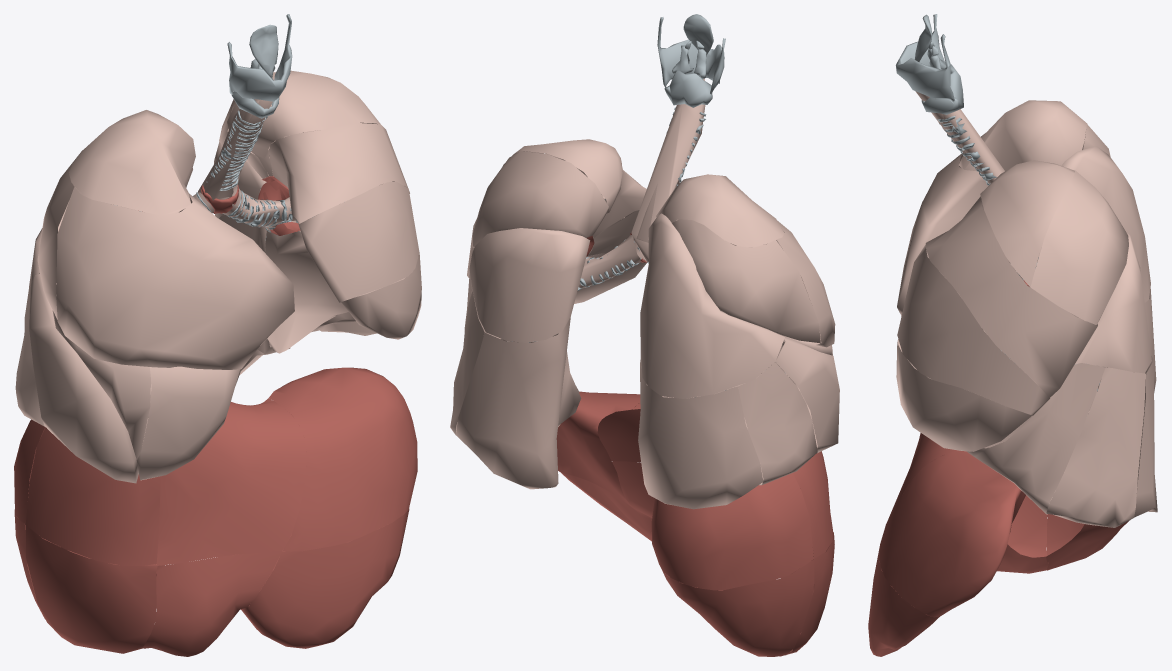
The model's file is adult_female.respiratory.LOD3.glb.
The picture shows the model from 3 angles, left to right: view 1: azimuth 30°, elevation 25°; view 2: azimuth 150°, elevation 25°; view 3: azimuth 270°, elevation 25°; orthographic projection. The views are drawn at different scales.
Visible parts, largest first — view 1: ADULT.FEMALE.RESPIRATORY.ANTERIOR_BRONCHOPULMONARY_SEGM.R, ADULT.FEMALE.RESPIRATORY.SUPEROMEDIAL_SEGMENT.L, ADULT.FEMALE.RESPIRATORY.SUPEROMEDIAL_SEGMENT1.L, ADULT.FEMALE.RESPIRATORY.ANTEROSUPERIOR_SEGMENT.R, ADULT.FEMALE.RESPIRATORY.ANTEROLATERAL_SEGMENT.L, ADULT.FEMALE.RESPIRATORY.ANTEROINFERIOR_SEGMENT.R, ADULT.FEMALE.RESPIRATORY.ANTERIOR_BASAL_BRONCHOPULMONARY_SEG, ADULT.FEMALE.RESPIRATORY.LINGULA_SUPERIOR_BRONCHOPULMONARY_S, ADULT.FEMALE.RESPIRATORY.APICAL_BRONCHOPULMONARY_SEGMENT.R, ADULT.FEMALE.RESPIRATORY.ANTERIOR_BRONCHOPULMONARY_SEGMENT.L, ADULT.FEMALE.RESPIRATORY.INFEROMEDIAL_SEGMENT.L, ADULT.FEMALE.RESPIRATORY.MEDIAL_BRONCHOPULMONARY_SEGMENT.R (+17 smaller); view 2: ADULT.FEMALE.RESPIRATORY.POSTERIOR_BASAL_BRONCHOPULMONARY_SE (×2), ADULT.FEMALE.RESPIRATORY.POSTERIOR_BRONCHOPULMONARY_SEGMENT. (×2), ADULT.FEMALE.RESPIRATORY.SUPERIOR_BRONCHOPULMONARY_SEGMENT.R, ADULT.FEMALE.RESPIRATORY.POSTEROSUPERIOR_SEGMENT.R, ADULT.FEMALE.RESPIRATORY.SUPERIOR_BRONCHOPULMONARY_SEGMENT.L, ADULT.FEMALE.RESPIRATORY.LATERAL_BASAL_BRONCHOPULMONARY_SEGM (×2), ADULT.FEMALE.RESPIRATORY.POSTEROINFERIOR_SEGMENT.R, ADULT.FEMALE.RESPIRATORY.SUPEROMEDIAL_SEGMENT.L, ADULT.FEMALE.RESPIRATORY.APICAL_BRONCHOPULMONARY_SEGMENT.R, ADULT.FEMALE.RESPIRATORY.ANTERIOR_BASAL_BRONCHOPULMONARY_SEG, ADULT.FEMALE.RESPIRATORY.TRACHEA, ADULT.FEMALE.RESPIRATORY.ANTEROLATERAL_SEGMENT.L (+11 smaller); view 3: ADULT.FEMALE.RESPIRATORY.SUPEROMEDIAL_SEGMENT.L, ADULT.FEMALE.RESPIRATORY.ANTERIOR_BRONCHOPULMONARY_SEGMENT.L, ADULT.FEMALE.RESPIRATORY.LINGULA_SUPERIOR_BRONCHOPULMONARY_S, ADULT.FEMALE.RESPIRATORY.LATERAL_BASAL_BRONCHOPULMONARY_SEGM, ADULT.FEMALE.RESPIRATORY.POSTERIOR_BRONCHOPULMONARY_SEGMENT., ADULT.FEMALE.RESPIRATORY.ANTERIOR_BASAL_BRONCHOPULMONARY_SEG, ADULT.FEMALE.RESPIRATORY.LINGULA_INFERIOR_BRONCHOPULMONARY_S, ADULT.FEMALE.RESPIRATORY.APICAL_BRONCHOPULMONARY_SEGMENT.L, ADULT.FEMALE.RESPIRATORY.APICAL_BRONCHOPULMONARY_SEGMENT.R, ADULT.FEMALE.RESPIRATORY.SUPERIOR_BRONCHOPULMONARY_SEGMENT.L, ADULT.FEMALE.RESPIRATORY.ANTERIOR_BRONCHOPULMONARY_SEGM.R, ADULT.FEMALE.RESPIRATORY.SUPERIOR_BRONCHOPULMONARY_SEGMENT.R (+10 smaller).
Boxes of the visible parts, x1,y1,x2,y2 form: ADULT.FEMALE.RESPIRATORY.ANTERIOR_BRONCHOPULMONARY_SEGM.R: (56, 187, 294, 369); ADULT.FEMALE.RESPIRATORY.SUPEROMEDIAL_SEGMENT.L: (268, 367, 417, 551); ADULT.FEMALE.RESPIRATORY.SUPEROMEDIAL_SEGMENT1.L: (156, 398, 306, 565); ADULT.FEMALE.RESPIRATORY.ANTEROSUPERIOR_SEGMENT.R: (25, 427, 160, 565); ADULT.FEMALE.RESPIRATORY.ANTEROLATERAL_SEGMENT.L: (235, 508, 409, 648); ADULT.FEMALE.RESPIRATORY.ANTEROINFERIOR_SEGMENT.R: (26, 525, 157, 653); ADULT.FEMALE.RESPIRATORY.ANTERIOR_BASAL_BRONCHOPULMONARY_SEG: (29, 274, 151, 483); ADULT.FEMALE.RESPIRATORY.LINGULA_SUPERIOR_BRONCHOPULMONARY_S: (297, 181, 419, 302); ADULT.FEMALE.RESPIRATORY.APICAL_BRONCHOPULMONARY_SEGMENT.R: (69, 110, 195, 215); ADULT.FEMALE.RESPIRATORY.ANTERIOR_BRONCHOPULMONARY_SEGMENT.L: (268, 123, 409, 222); ADULT.FEMALE.RESPIRATORY.INFEROMEDIAL_SEGMENT.L: (143, 551, 281, 656); ADULT.FEMALE.RESPIRATORY.MEDIAL_BRONCHOPULMONARY_SEGMENT.R: (136, 366, 240, 480); ADULT.FEMALE.RESPIRATORY.POSTERIOR_BASAL_BRONCHOPULMONARY_SE (×2): (456, 317, 763, 509); ADULT.FEMALE.RESPIRATORY.POSTERIOR_BRONCHOPULMONARY_SEGMENT. (×2): (472, 151, 820, 343); ADULT.FEMALE.RESPIRATORY.SUPERIOR_BRONCHOPULMONARY_SEGMENT.R: (640, 213, 784, 398); ADULT.FEMALE.RESPIRATORY.POSTEROSUPERIOR_SEGMENT.R: (651, 473, 813, 590); ADULT.FEMALE.RESPIRATORY.SUPERIOR_BRONCHOPULMONARY_SEGMENT.L: (469, 228, 590, 342); ADULT.FEMALE.RESPIRATORY.LATERAL_BASAL_BRONCHOPULMONARY_SEGM (×2): (450, 291, 817, 485); ADULT.FEMALE.RESPIRATORY.POSTEROINFERIOR_SEGMENT.R: (662, 559, 814, 656); ADULT.FEMALE.RESPIRATORY.SUPEROMEDIAL_SEGMENT.L: (556, 391, 641, 508); ADULT.FEMALE.RESPIRATORY.APICAL_BRONCHOPULMONARY_SEGMENT.R: (656, 174, 784, 247); ADULT.FEMALE.RESPIRATORY.ANTERIOR_BASAL_BRONCHOPULMONARY_SEG: (718, 335, 839, 452); ADULT.FEMALE.RESPIRATORY.TRACHEA: (631, 79, 705, 262); ADULT.FEMALE.RESPIRATORY.ANTEROLATERAL_SEGMENT.L: (561, 461, 654, 541); ADULT.FEMALE.RESPIRATORY.SUPEROMEDIAL_SEGMENT.L: (879, 450, 1025, 616); ADULT.FEMALE.RESPIRATORY.ANTERIOR_BRONCHOPULMONARY_SEGMENT.L: (925, 196, 1097, 397); ADULT.FEMALE.RESPIRATORY.LINGULA_SUPERIOR_BRONCHOPULMONARY_S: (897, 244, 1049, 415); ADULT.FEMALE.RESPIRATORY.LATERAL_BASAL_BRONCHOPULMONARY_SEGM: (1046, 367, 1145, 527); ADULT.FEMALE.RESPIRATORY.POSTERIOR_BRONCHOPULMONARY_SEGMENT.: (1030, 171, 1128, 324); ADULT.FEMALE.RESPIRATORY.ANTERIOR_BASAL_BRONCHOPULMONARY_SEG: (966, 363, 1105, 514); ADULT.FEMALE.RESPIRATORY.LINGULA_INFERIOR_BRONCHOPULMONARY_S: (896, 330, 1032, 451); ADULT.FEMALE.RESPIRATORY.APICAL_BRONCHOPULMONARY_SEGMENT.L: (980, 160, 1074, 287); ADULT.FEMALE.RESPIRATORY.APICAL_BRONCHOPULMONARY_SEGMENT.R: (959, 100, 1087, 171); ADULT.FEMALE.RESPIRATORY.SUPERIOR_BRONCHOPULMONARY_SEGMENT.L: (1075, 232, 1151, 373); ADULT.FEMALE.RESPIRATORY.ANTERIOR_BRONCHOPULMONARY_SEGM.R: (897, 152, 988, 315); ADULT.FEMALE.RESPIRATORY.SUPERIOR_BRONCHOPULMONARY_SEGMENT.R: (1061, 146, 1150, 302).
Size of the model in its own units: 0.2557 by 0.4014 by 0.169.
